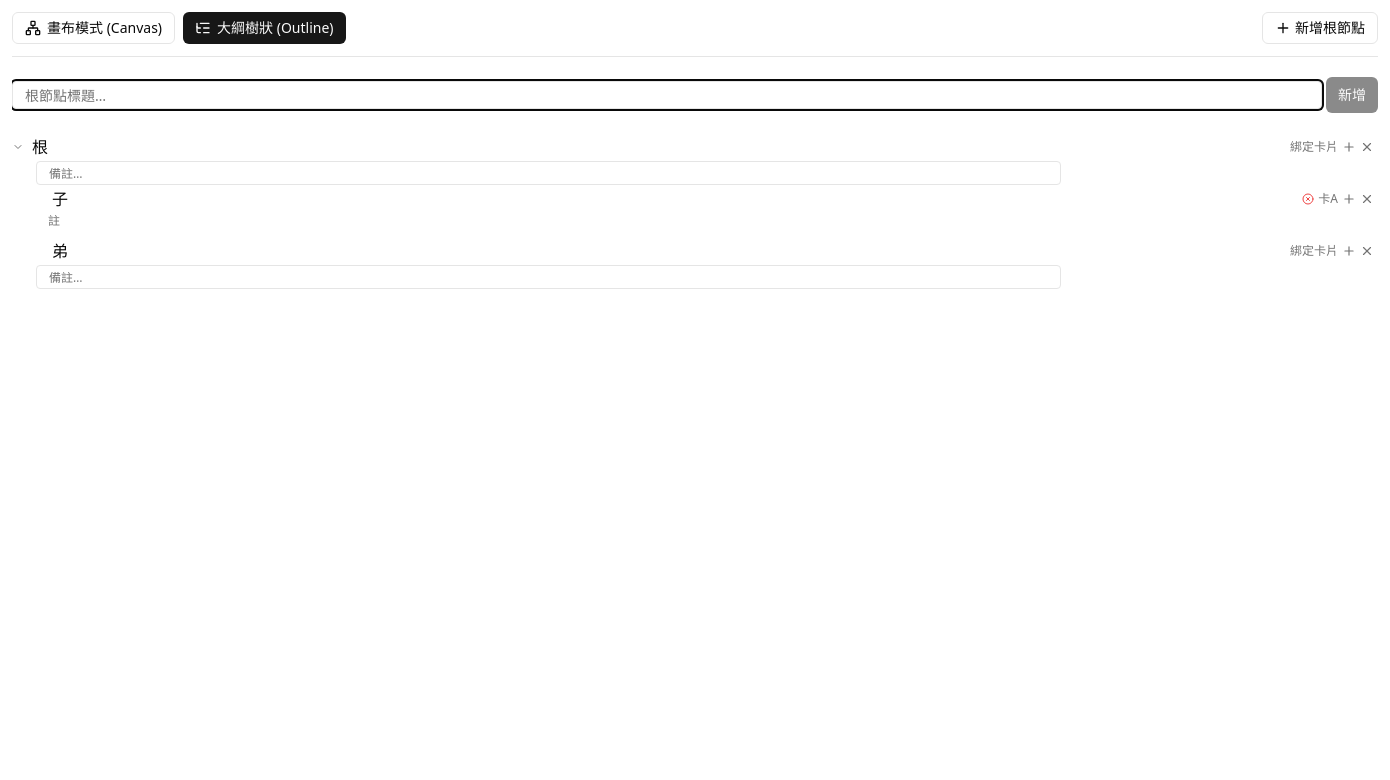
Scenario: 心智圖的審查狀態圖示（大綱列＋畫布節點） › card.reviewState=rejected 時圖示的無障礙名稱是 審查狀態：退回
The width and height of the screenshot is (1390, 780).
Click the button "畫布模式 (Canvas)" at (94,28), box [12,12,175,44]
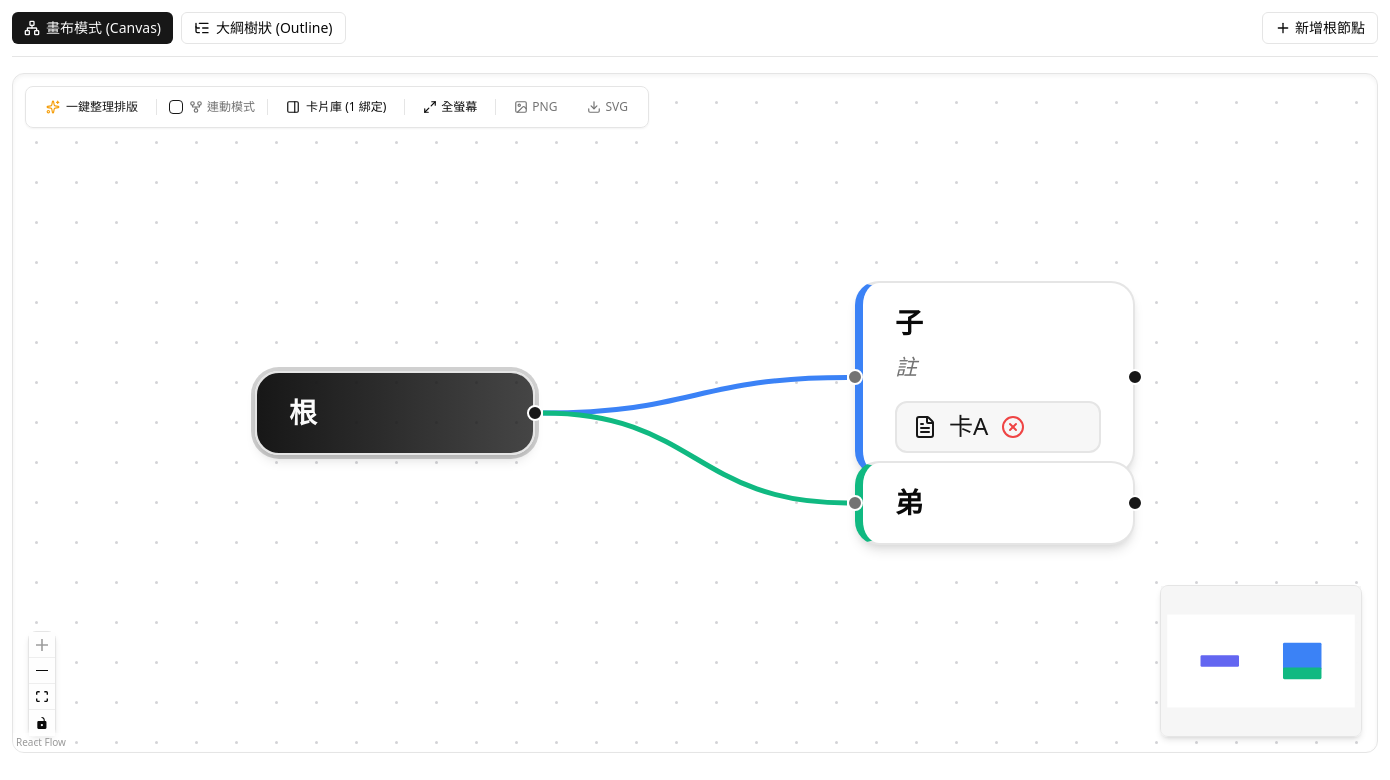
Expected: the element named "審查狀態：退回" is shown, [895,400,1101,452]
Result: the icon named "審查狀態：退回" is shown at [1000,414,1024,438]
